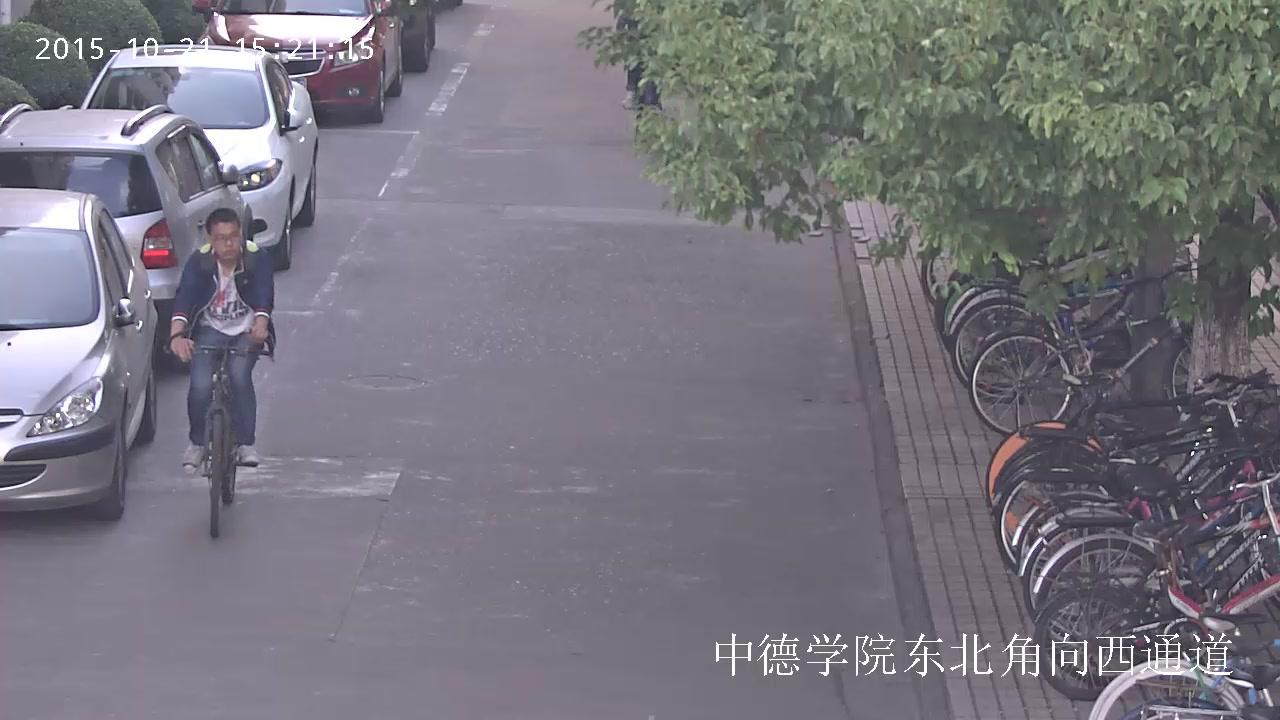face: (212, 220, 240, 259)
